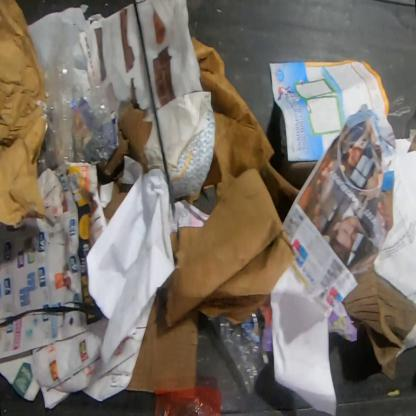cardboard: (158, 35, 320, 329), (0, 0, 51, 228), (342, 259, 415, 382), (143, 90, 216, 212), (125, 289, 199, 393), (97, 98, 152, 195), (103, 179, 129, 220)
soft_plastic: (38, 45, 118, 173), (207, 309, 270, 397), (153, 386, 223, 415)
